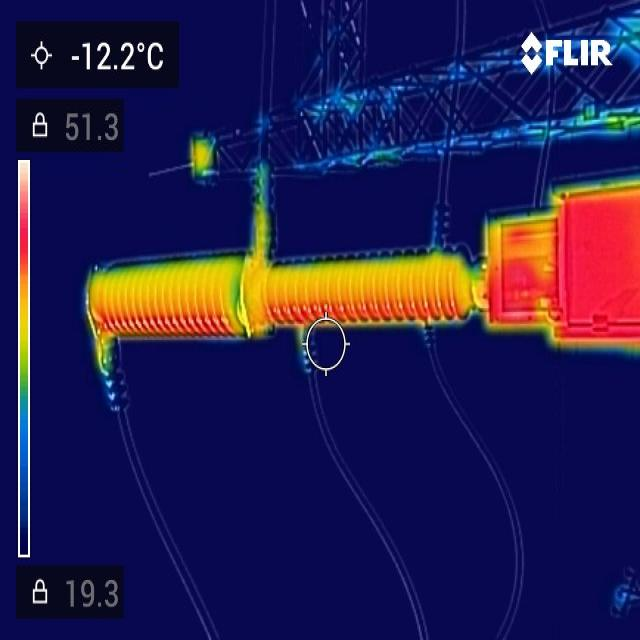Zona_Critica: (104, 299, 460, 331), (561, 199, 639, 331), (491, 268, 557, 319)
